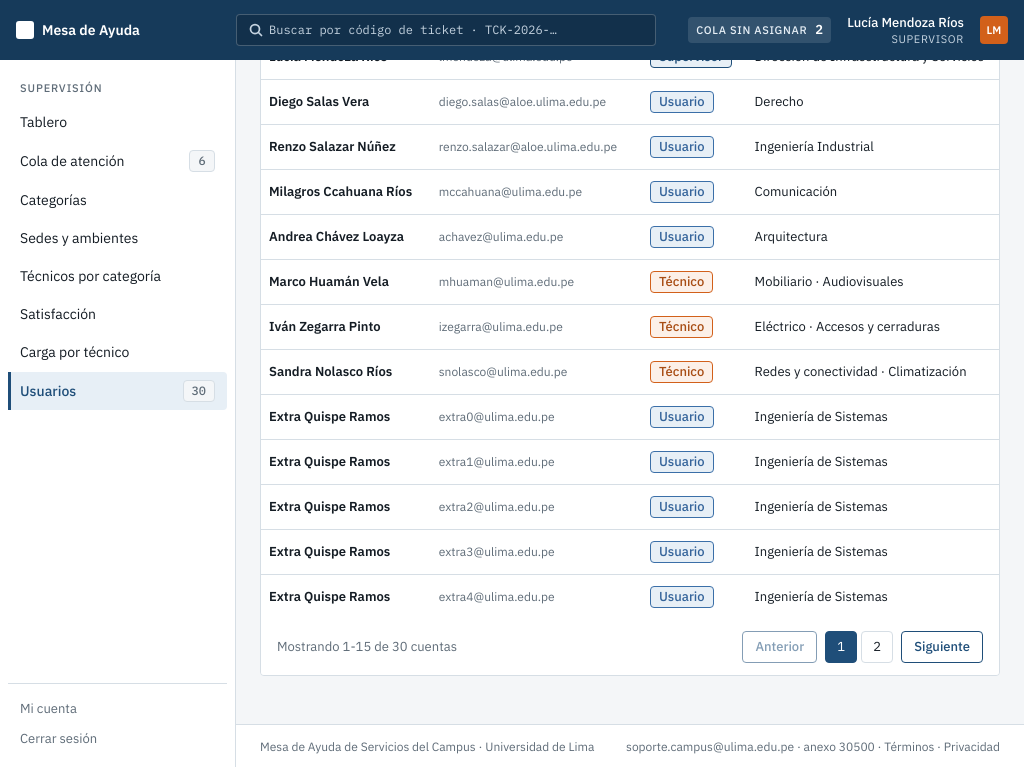
HU-7.3 · usuarios › pagina y vuelve a la primera página al filtrar
(page scrolled)
Expected: the text "Mostrando 1-15 de 30 cuentas" is shown, left=277, top=636, right=457, bottom=658
Click the button "Siguiente": {"x": 942, "y": 647} left=901, top=631, right=983, bottom=663
(page scrolled)
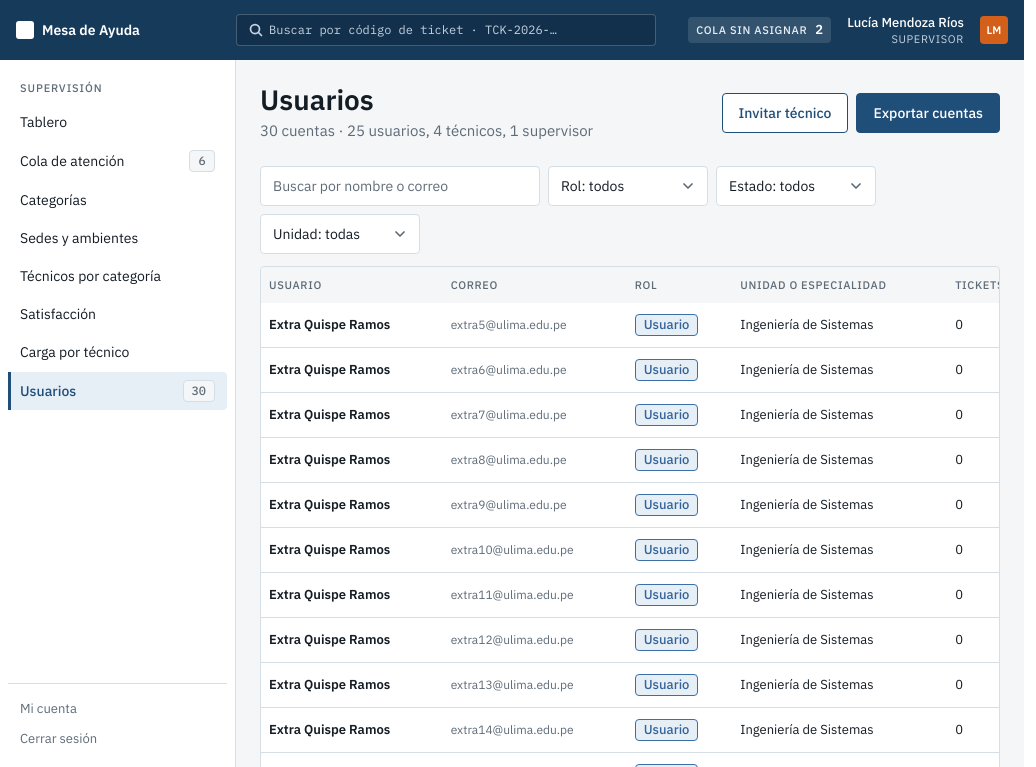
Select "Supervisor" in the dropdown named "Rol": {"x": 628, "y": 186} left=548, top=166, right=708, bottom=206
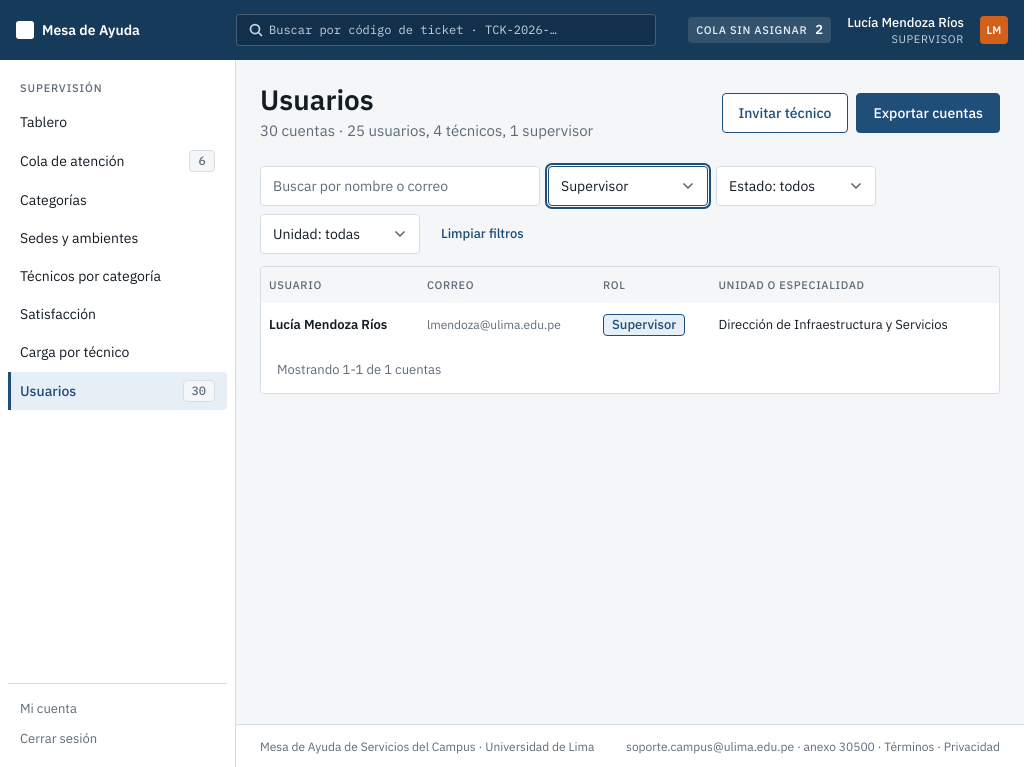
Expected: the text "Mostrando 1-1 de 1 cuentas" is shown, left=277, top=359, right=441, bottom=381
